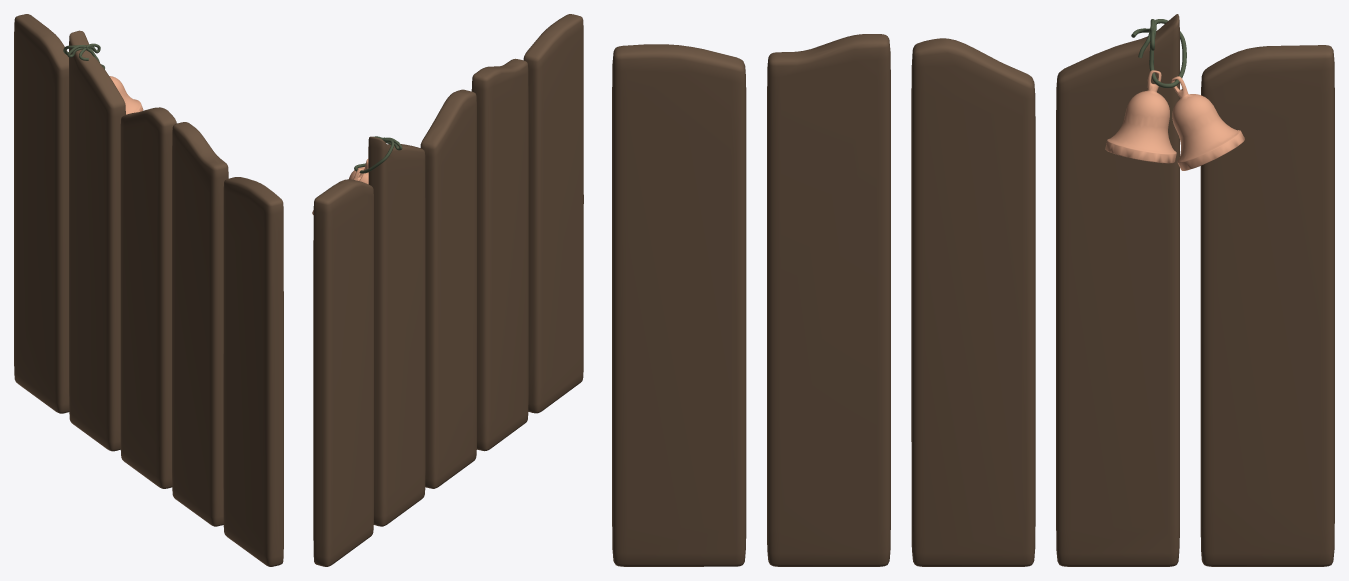
Rendered from fence_with_bells.glb.
The picture shows the model from 3 angles, left to right: view 1: azimuth 30°, elevation 25°; view 2: azimuth 150°, elevation 25°; view 3: azimuth 270°, elevation 25°; orthographic projection. The views are drawn at different scales.
Parts seen in each view (by area): view 1: Cube.054, Sphere.047; view 2: Cube.054; view 3: Cube.054, Sphere.048, Sphere.047.
Boxes of the visible parts, x1,y1,x2,y2 form: Cube.054: [14, 14, 283, 566]; Sphere.047: [109, 76, 143, 114]; Cube.054: [313, 14, 583, 566]; Cube.054: [612, 14, 1334, 566]; Sphere.048: [1171, 76, 1244, 170]; Sphere.047: [1105, 70, 1176, 163].
Size of the model in its own units: 0.793 by 4.31 by 5.16.
